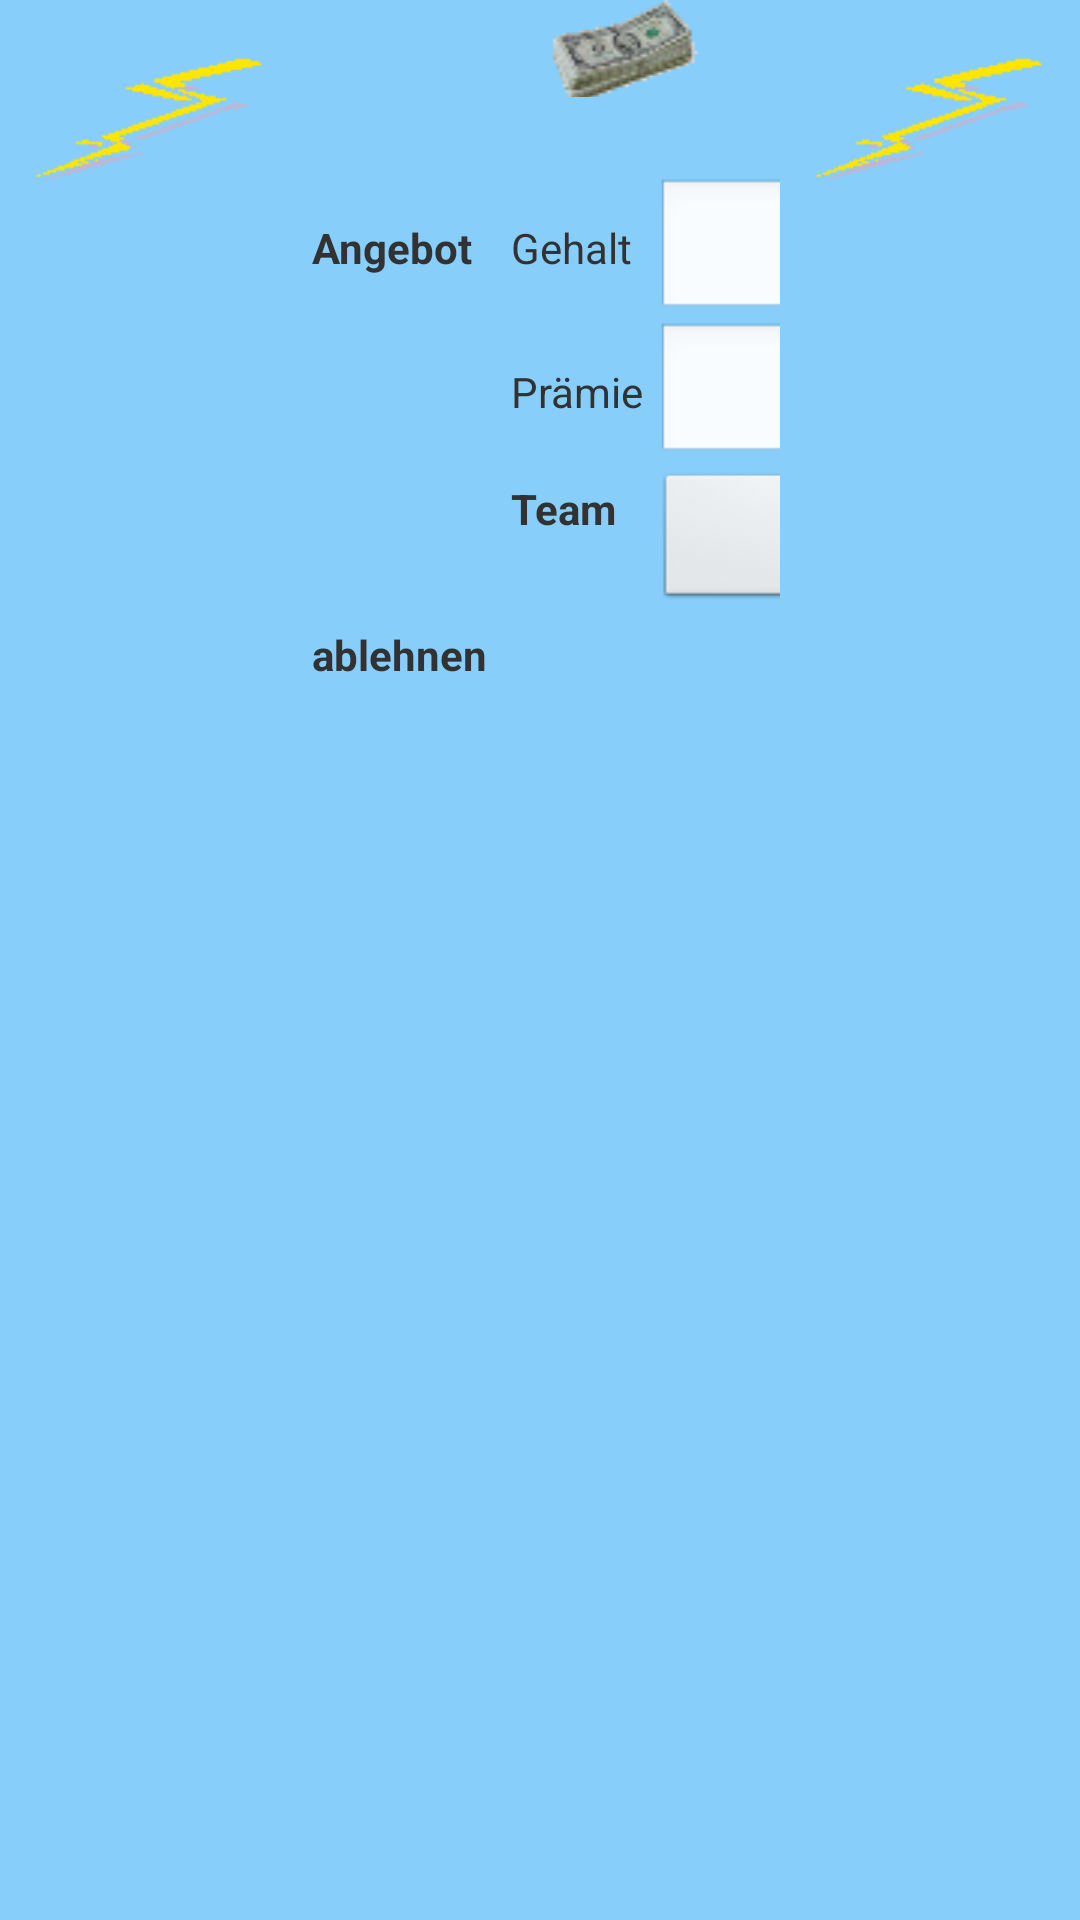

Point at icon controls on the screen. Image size 1080w x 1920h, points as (x,y).
lightening: (149,119), (929,119)
money: (625,48)
